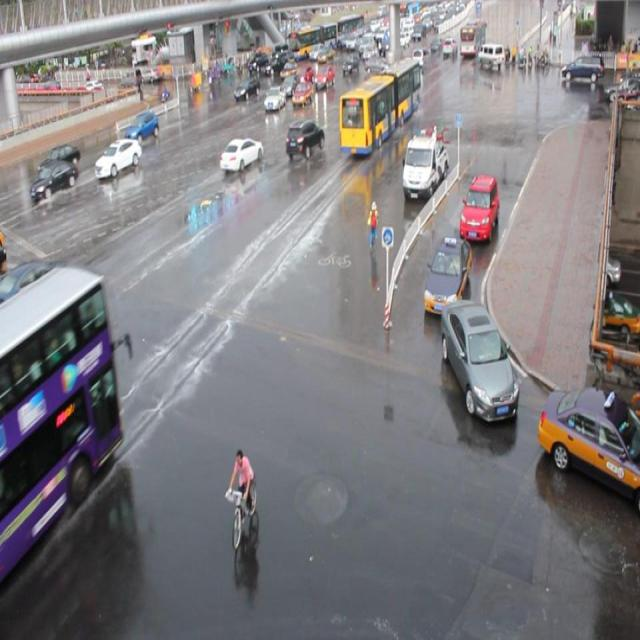bus: (401, 128, 448, 198)
car: (536, 385, 640, 510), (440, 297, 518, 422), (1, 262, 73, 326), (424, 234, 471, 314), (458, 173, 499, 242), (31, 159, 78, 200), (95, 137, 143, 177), (219, 137, 263, 171), (285, 119, 324, 157), (38, 141, 81, 175), (124, 109, 160, 143), (233, 77, 259, 102), (356, 78, 380, 104), (292, 80, 314, 107), (264, 85, 285, 111), (279, 74, 300, 97)
van: (1, 266, 124, 577), (337, 59, 421, 154)
